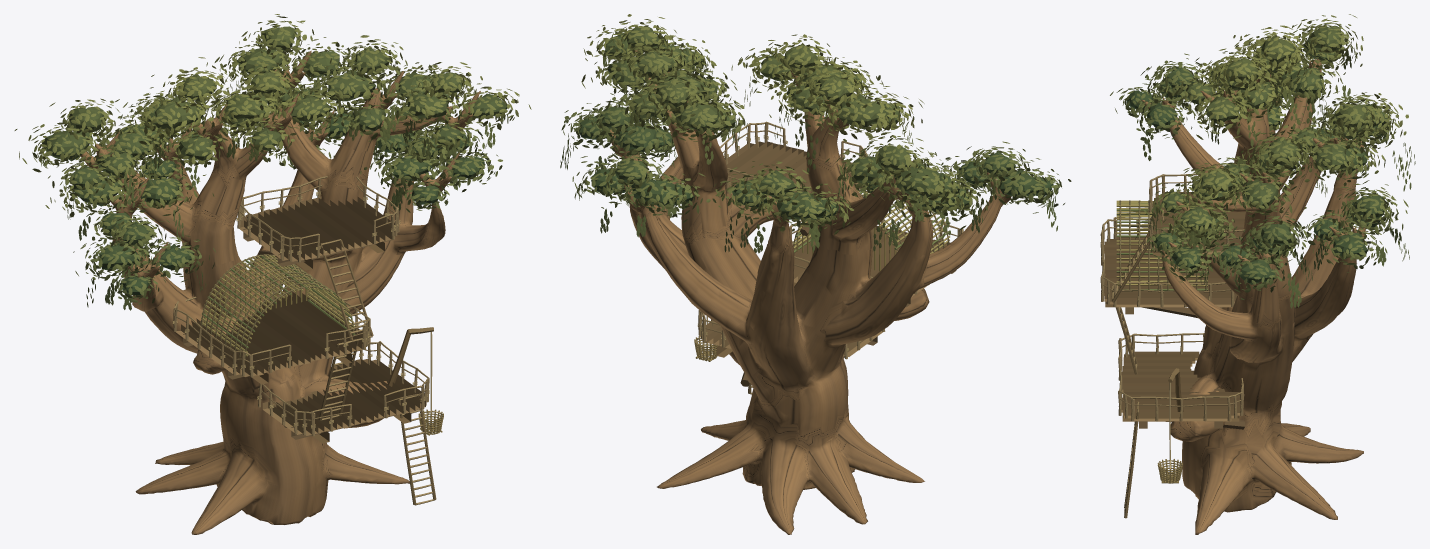
File: longbough-habitation-study.glb
The picture shows the model from 3 angles, left to right: view 1: azimuth 30°, elevation 25°; view 2: azimuth 150°, elevation 25°; view 3: azimuth 270°, elevation 25°; orthographic projection. The views are drawn at different scales.
Visible parts, largest first — view 1: crown-foliage, living-wood, study-structure-decks, study-structure-rails-ladders, study-structure-woven-hood-basket, study-structure-supports, study-structure-lashings-hoist; view 2: living-wood, crown-foliage, study-structure-decks, study-structure-woven-hood-basket, study-structure-rails-ladders; view 3: crown-foliage, living-wood, study-structure-decks, study-structure-rails-ladders, study-structure-woven-hood-basket, study-structure-supports.
Boxes of the visible parts, bbox=[...] form: crown-foliage: bbox=[14, 14, 531, 310]; living-wood: bbox=[80, 50, 480, 534]; study-structure-decks: bbox=[176, 196, 425, 435]; study-structure-rails-ladders: bbox=[173, 176, 436, 505]; study-structure-woven-hood-basket: bbox=[200, 254, 443, 435]; study-structure-supports: bbox=[183, 228, 433, 443]; study-structure-lashings-hoist: bbox=[172, 191, 441, 428]; living-wood: bbox=[610, 33, 1011, 534]; crown-foliage: bbox=[560, 14, 1071, 253]; study-structure-decks: bbox=[699, 141, 950, 356]; study-structure-woven-hood-basket: bbox=[694, 186, 950, 361]; study-structure-rails-ladders: bbox=[698, 121, 963, 394]; crown-foliage: bbox=[1110, 14, 1415, 308]; living-wood: bbox=[1141, 58, 1366, 534]; study-structure-decks: bbox=[1104, 192, 1245, 421]; study-structure-rails-ladders: bbox=[1100, 172, 1255, 518]; study-structure-woven-hood-basket: bbox=[1116, 200, 1207, 483]; study-structure-supports: bbox=[1105, 248, 1245, 429].
Size of the model in its own units: 14.39 by 13.57 by 8.82.
Materials: 7 (1 with a texture image).
